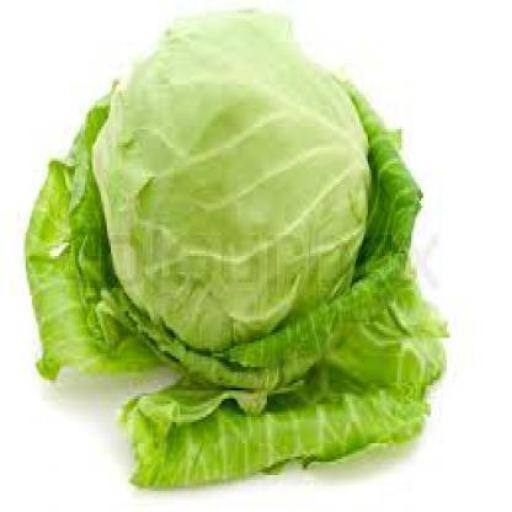biodegradable: (22, 6, 448, 483)
